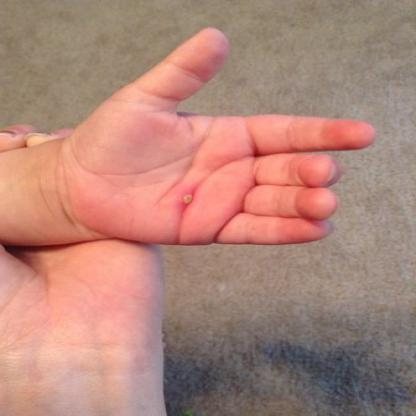Fire ant: (174, 185, 200, 213)
